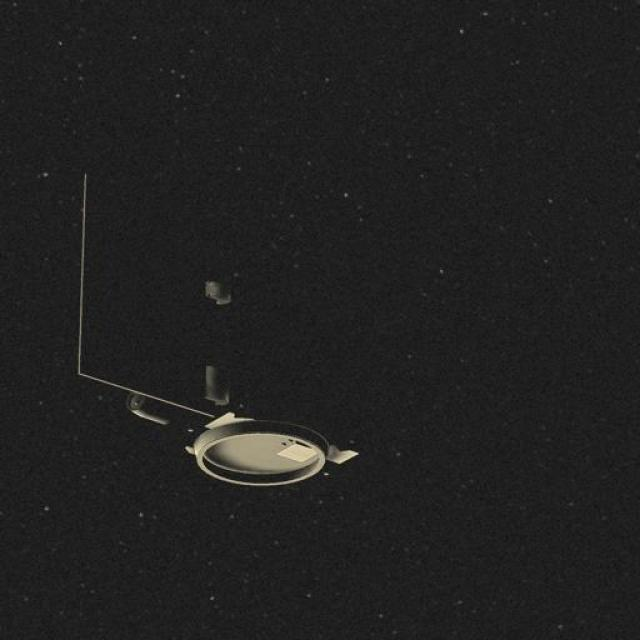proba_3_csc: (61, 159, 396, 502)
